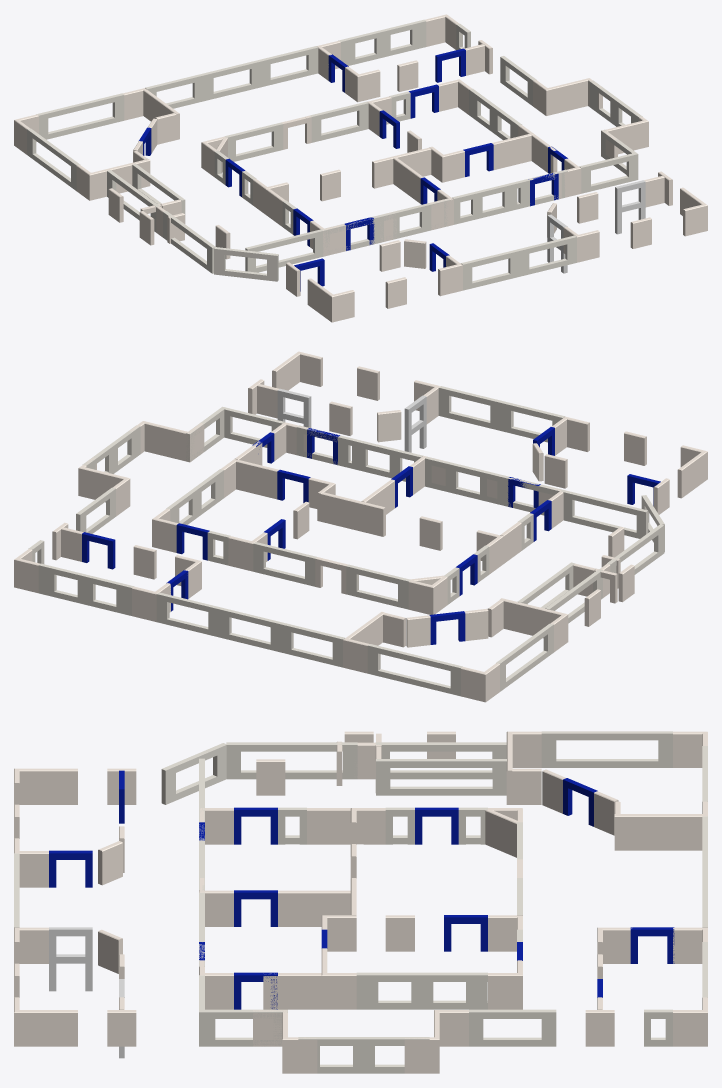
Rendered from WorkWalls.fbx.
The picture shows the model from 3 angles, top to bottom: view 1: azimuth 30°, elevation 25°; view 2: azimuth 150°, elevation 25°; view 3: azimuth 270°, elevation 25°; orthographic projection. The views are drawn at different scales.
Visible parts, largest first — view 1: pCube6_18, pCube6_1, pCube6_5, pCube6_11, pCube6_21, pCube6_3, pCube6_16, pCube6_6, pCube6_9, pCube6_17, pCube6_8, pCube6_15 (+28 smaller); view 2: pCube6_14, pCube6_2, pCube6_22, pCube6_17, pCube6_9, pCube6_10, pCube6_12, pCube6_4, pCube6_16, pCube6_3, pCube6_6, pCube6_7 (+34 smaller); view 3: pCube6_10, pCube1_40, pCube6_9, pCube6_3, pCube6_6, pCube6_19, pCube6_20, pCube6_13, LongWindow, LongWindow2__1_, pCube6_8, pCube6_18 (+56 smaller).
Boxes of the visible parts, x1,y1,x2,y2 form: pCube6_18: (318, 286, 354, 322); pCube6_1: (533, 80, 568, 115); pCube6_5: (345, 66, 380, 102); pCube6_11: (429, 146, 464, 182); pCube6_21: (76, 164, 112, 200); pCube6_3: (425, 14, 459, 49); pCube6_16: (123, 88, 157, 121); pCube6_6: (437, 79, 471, 114); pCube6_9: (683, 195, 707, 236); pCube6_17: (438, 255, 462, 296); pCube6_8: (563, 226, 599, 262); pCube6_15: (310, 220, 345, 256); pCube6_14: (408, 576, 447, 614); pCube6_2: (165, 423, 204, 462); pCube6_22: (461, 663, 499, 702); pCube6_17: (551, 416, 589, 455); pCube6_9: (285, 351, 322, 390); pCube6_10: (221, 459, 258, 497); pCube6_12: (228, 532, 267, 571); pCube6_4: (132, 582, 170, 621); pCube6_16: (343, 629, 369, 673); pCube6_3: (14, 549, 40, 593); pCube6_6: (152, 508, 178, 552); pCube6_7: (271, 422, 308, 460); pCube6_10: (321, 960, 356, 1009); pCube1_40: (278, 973, 321, 1009); pCube6_9: (14, 997, 48, 1046); pCube6_3: (673, 997, 707, 1046); pCube6_6: (488, 960, 522, 1009); pCube6_19: (282, 1024, 317, 1073); pCube6_20: (404, 1024, 439, 1073); pCube6_13: (350, 808, 385, 844); LongWindow: (541, 731, 672, 740); LongWindow2__1_: (356, 972, 487, 981); pCube6_8: (14, 927, 48, 963); pCube6_18: (14, 768, 48, 804).
Bounding box in the file's own units: 50000 × 4660 × 47600.
